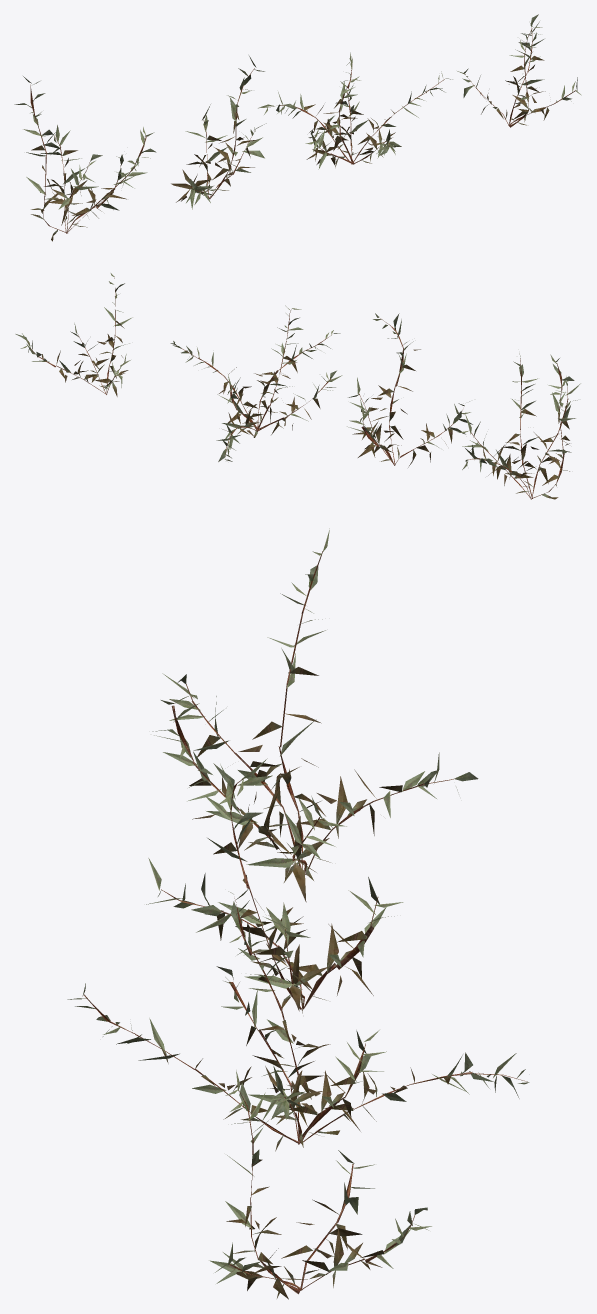
File: veg_veg_scrub_shrub_02.glb
3 views of the same model, one above another, from view 1: azimuth 30°, elevation 25°; view 2: azimuth 150°, elevation 25°; view 3: azimuth 270°, elevation 25° (orthographic). The views are drawn at different scales.
Parts seen in each view (by area): view 1: veg_scrub_shrub_02; view 2: veg_scrub_shrub_02; view 3: veg_scrub_shrub_02.
Part boxes in pixels (x1=…): veg_scrub_shrub_02: x1=14, y1=14, x2=581, y2=241; veg_scrub_shrub_02: x1=15, y1=273, x2=580, y2=499; veg_scrub_shrub_02: x1=67, y1=528, x2=529, y2=1299.
Size of the model in its own units: 7.23 by 2.04 by 2.74.
1 material, 1 textured.
